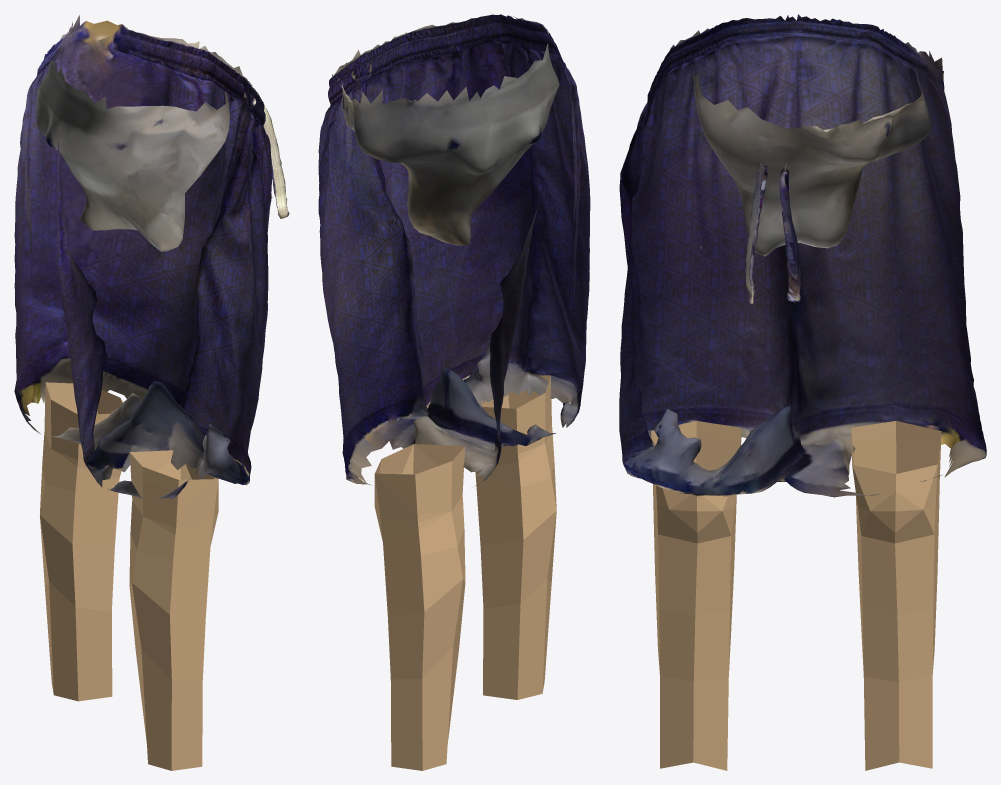
Rendered from Purpleshorts.glb.
3 views of the same model, side by side, from view 1: azimuth 30°, elevation 25°; view 2: azimuth 150°, elevation 25°; view 3: azimuth 270°, elevation 25° (orthographic). The views are drawn at different scales.
Parts seen in each view (by area): view 1: Legs; view 2: Legs; view 3: Legs.
Boxes of the visible parts, bbox=[...] form: Legs: bbox=[14, 15, 289, 770]; Legs: bbox=[318, 14, 590, 770]; Legs: bbox=[619, 14, 986, 770].
Bounding box in the file's own units: 0.4028 × 1.09 × 0.5058.
2 materials, 1 textured.
